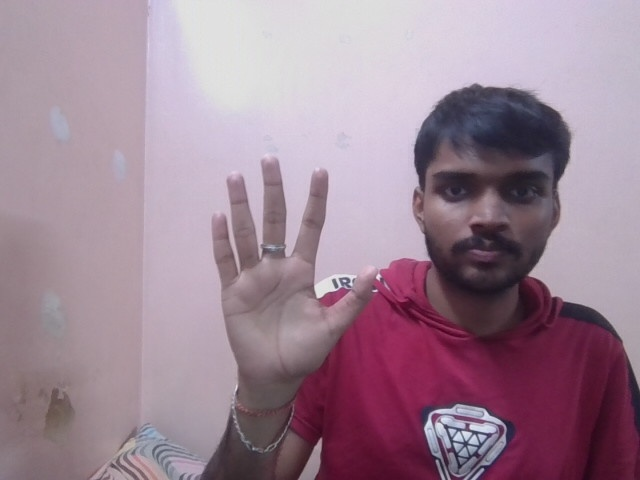Hello: (198, 147, 378, 381)
